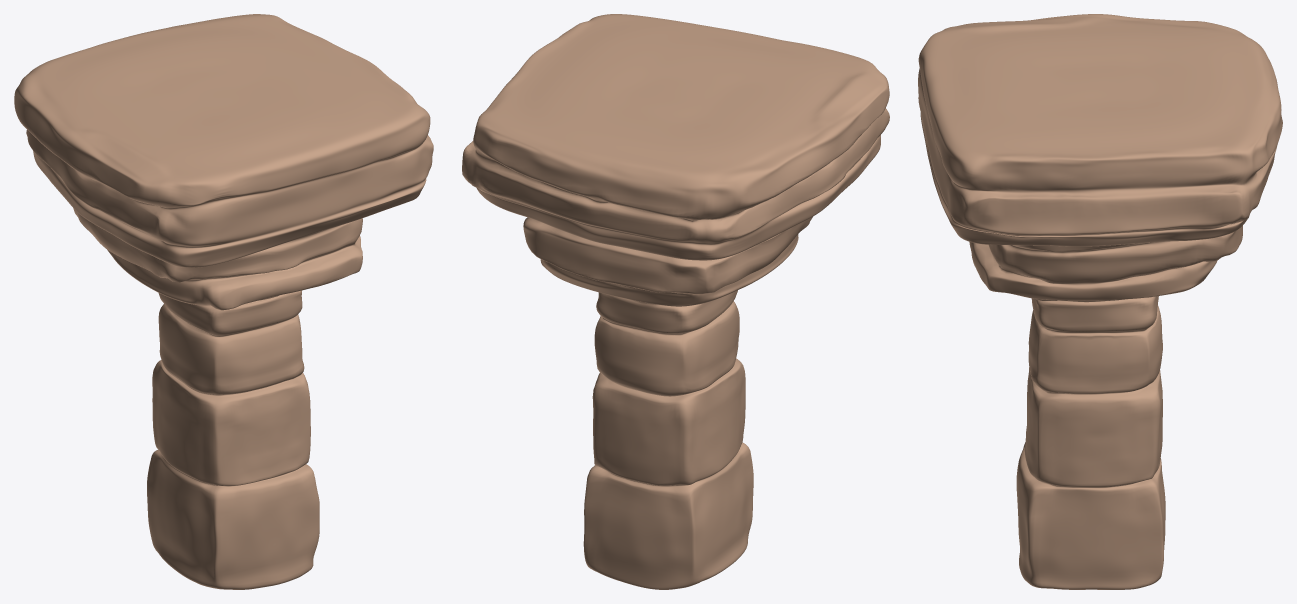
File: Full_Coupled_Platform_3D_HP.fbx
3 renders of one model, left to right at view 1: azimuth 30°, elevation 25°; view 2: azimuth 150°, elevation 25°; view 3: azimuth 270°, elevation 25°, orthographic.
Parts seen in each view (by area): view 1: Box023; view 2: Box023; view 3: Box023.
Part boxes in pixels (x1,y1,x2,y2): Box023: [14, 14, 433, 589]; Box023: [462, 14, 889, 589]; Box023: [918, 14, 1282, 589].
Size of the model in its own units: 582 by 840 by 574.
